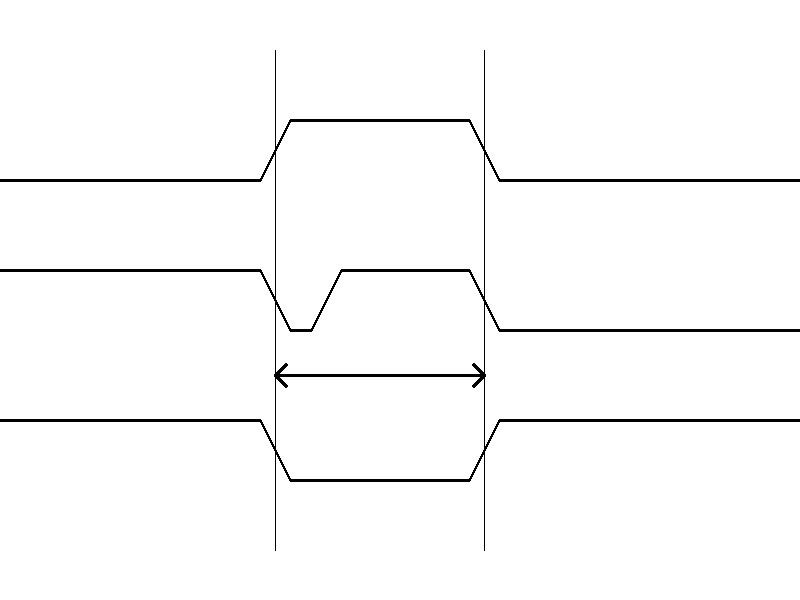double_arrow: (275, 360, 484, 390)
